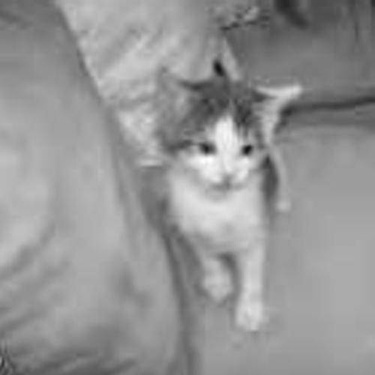cat: (153, 64, 300, 333)
